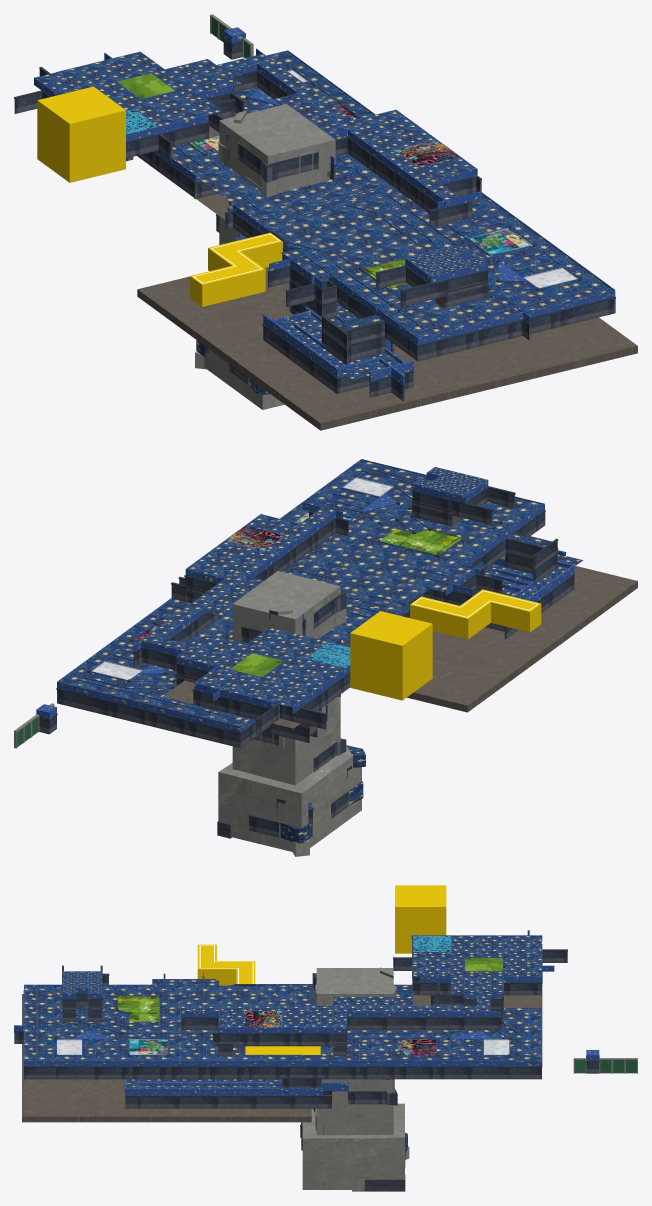
Rendered from Maze.glb.
3 renders of one model, top to bottom at view 1: azimuth 30°, elevation 25°; view 2: azimuth 150°, elevation 25°; view 3: azimuth 270°, elevation 25°, orthographic. The views are drawn at different scales.
Visible parts, largest first — view 1: Roof_1, Plane.002_35, Roof2_15, Walls_6, Pit_7, Decor_4, TopWalls_12, Exit_18, Decor.009_13, Cube_22, Plane.001_34; view 2: Roof_1, Pit_7, Roof2_15, Plane.002_35, TopWalls_12, Walls_6, Decor_4, Exit_18, Decor.009_13, Cube_22, Plane.001_34, FloorTop.001_11; view 3: Roof_1, Walls_6, Pit_7, Roof2_15, TopWalls_12, Decor_4, Plane.002_35, Decor.009_13, Exit_18, Cube_22, Plane.001_34, FloorTop.001_11.
Boxes of the visible parts, x1,y1,x2,y2 form: Roof_1: (172, 52, 612, 337); Plane.002_35: (137, 267, 637, 430); Roof2_15: (35, 52, 486, 277); Walls_6: (137, 151, 615, 401); Pit_7: (195, 104, 335, 409); Decor_4: (154, 50, 615, 344); TopWalls_12: (14, 67, 488, 307); Exit_18: (37, 86, 125, 182); Decor.009_13: (34, 48, 487, 283); Cube_22: (190, 232, 282, 306); Plane.001_34: (277, 303, 400, 379); Roof_1: (59, 460, 550, 725); Pit_7: (217, 571, 365, 856); Roof2_15: (142, 467, 486, 707); Plane.002_35: (407, 555, 637, 712); TopWalls_12: (133, 479, 515, 742); Walls_6: (56, 510, 574, 748); Decor_4: (57, 459, 544, 732); Exit_18: (350, 611, 432, 700); Decor.009_13: (134, 467, 488, 713); Cube_22: (410, 589, 541, 639); Plane.001_34: (484, 554, 582, 599); FloorTop.001_11: (141, 662, 300, 728); Roof_1: (24, 980, 541, 1060); Walls_6: (14, 973, 542, 1108); Pit_7: (300, 967, 409, 1191); Roof2_15: (63, 936, 541, 1027); TopWalls_12: (62, 930, 567, 1060); Decor_4: (14, 971, 541, 1066); Plane.002_35: (22, 994, 311, 1122); Decor.009_13: (62, 935, 554, 1033); Exit_18: (395, 885, 446, 953); Cube_22: (197, 944, 255, 985); Plane.001_34: (127, 1079, 281, 1087); FloorTop.001_11: (180, 995, 541, 1030).
Bounding box in the file's own units: 47.22 × 37.73 × 97.09.
21 materials, 17 textured.
